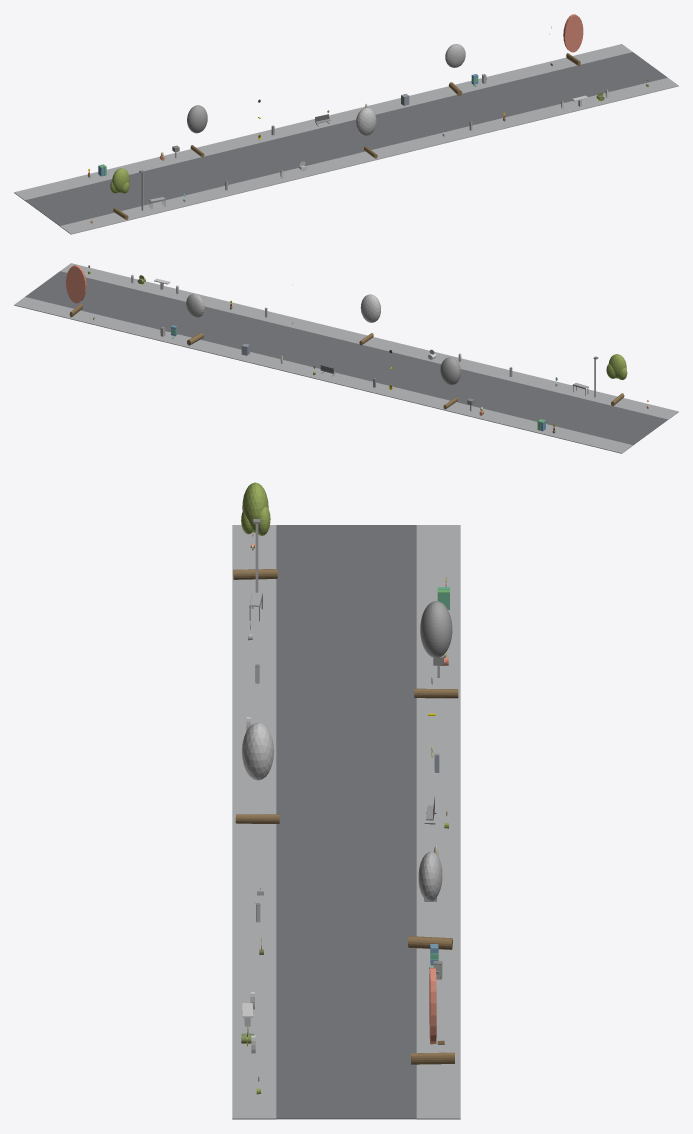
The picture shows the model from 3 angles, top to bottom: view 1: azimuth 30°, elevation 25°; view 2: azimuth 150°, elevation 25°; view 3: azimuth 270°, elevation 25°; orthographic projection. The views are drawn at different scales.
Visible parts, largest first — view 1: road_slab, sidewalk_left, sidewalk_right, inst_0016, inst_0013, inst_0014, inst_0012, inst_0015; view 2: road_slab, sidewalk_right, sidewalk_left, inst_0016, inst_0013, inst_0014, inst_0012, inst_0015; view 3: road_slab, sidewalk_left, sidewalk_right, inst_0013, inst_0014, inst_0012, inst_0015, inst_0016.
Part boxes in pixels (box(x1,y1,x2,y2)): road_slab: box(25, 52, 667, 225); sidewalk_left: box(60, 77, 678, 234); sidewalk_right: box(14, 44, 632, 200); inst_0016: box(563, 14, 583, 66); inst_0013: box(187, 105, 207, 157); inst_0014: box(356, 107, 377, 158); inst_0012: box(110, 168, 129, 219); inst_0015: box(445, 44, 465, 95); road_slab: box(25, 271, 667, 445); sidewalk_right: box(14, 297, 632, 453); sidewalk_left: box(60, 263, 678, 419); inst_0016: box(66, 265, 86, 317); inst_0013: box(440, 357, 460, 409); inst_0014: box(359, 294, 380, 345); inst_0012: box(606, 354, 627, 406); inst_0015: box(186, 293, 204, 345); road_slab: box(276, 525, 416, 1119); sidewalk_left: box(232, 525, 276, 1119); sidewalk_right: box(416, 525, 460, 1119); inst_0013: box(414, 601, 458, 698); inst_0014: box(235, 722, 279, 823); inst_0012: box(233, 482, 277, 579); inst_0015: box(408, 851, 452, 949); inst_0016: box(411, 967, 454, 1064).
Bounding box in the file's own units: 80 × 6.08 × 13.
